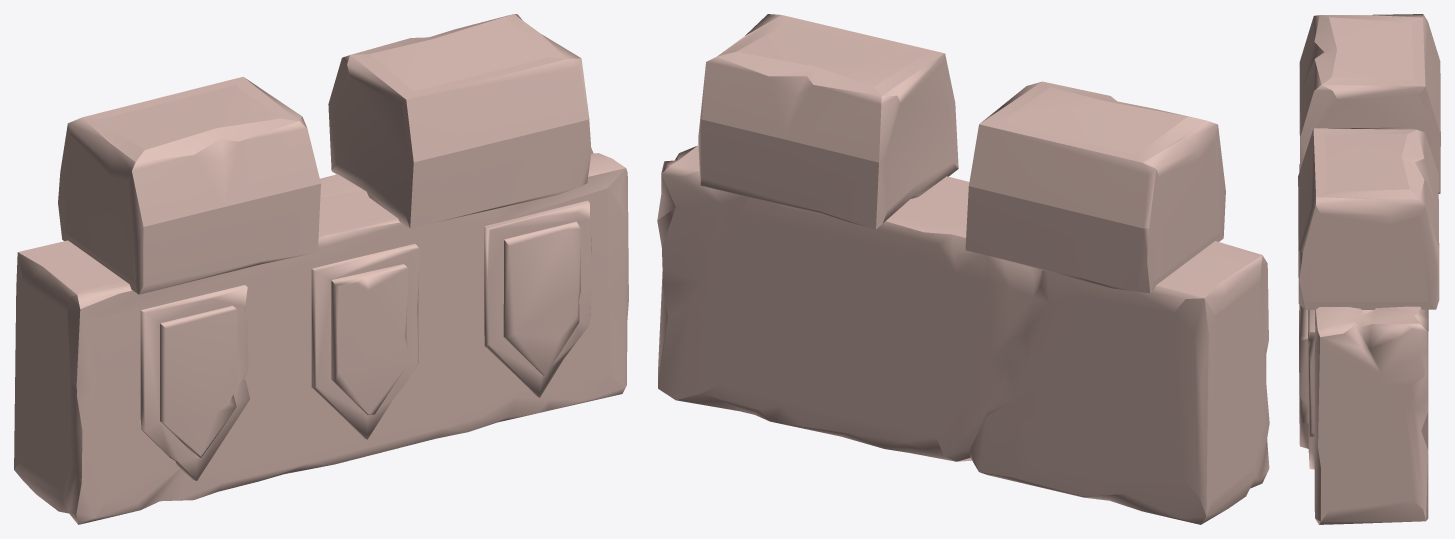
Rendered from Bariere_short_3_line_x1.fbx.
3 renders of one model, left to right at view 1: azimuth 30°, elevation 25°; view 2: azimuth 150°, elevation 25°; view 3: azimuth 270°, elevation 25°, orthographic. The views are drawn at different scales.
Parts seen in each view (by area): view 1: Bariere_short_3_line_x1_LOD0; view 2: Bariere_short_3_line_x1_LOD0; view 3: Bariere_short_3_line_x1_LOD0.
Part boxes in pixels (bbox=[...]): Bariere_short_3_line_x1_LOD0: bbox=[14, 14, 628, 524]; Bariere_short_3_line_x1_LOD0: bbox=[657, 14, 1269, 524]; Bariere_short_3_line_x1_LOD0: bbox=[1298, 14, 1440, 524].
Size of what is drawn, in the model's own units: 124 by 76.95 by 32.02.
